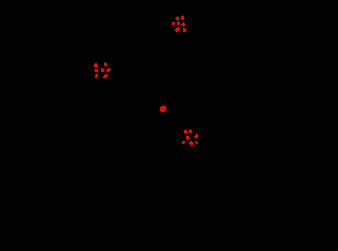Target: (160, 106, 166, 112), (175, 27, 180, 32), (181, 22, 185, 27), (106, 68, 111, 72), (103, 74, 108, 78), (175, 16, 179, 20), (94, 63, 98, 67), (194, 134, 198, 138), (189, 141, 193, 145), (181, 15, 184, 20), (177, 21, 180, 25), (183, 28, 186, 32), (104, 62, 107, 66), (101, 68, 104, 72), (94, 69, 98, 72), (95, 74, 98, 78), (189, 129, 192, 133), (172, 22, 175, 25), (184, 130, 187, 133), (186, 136, 189, 139), (182, 141, 185, 144), (195, 141, 198, 144)
